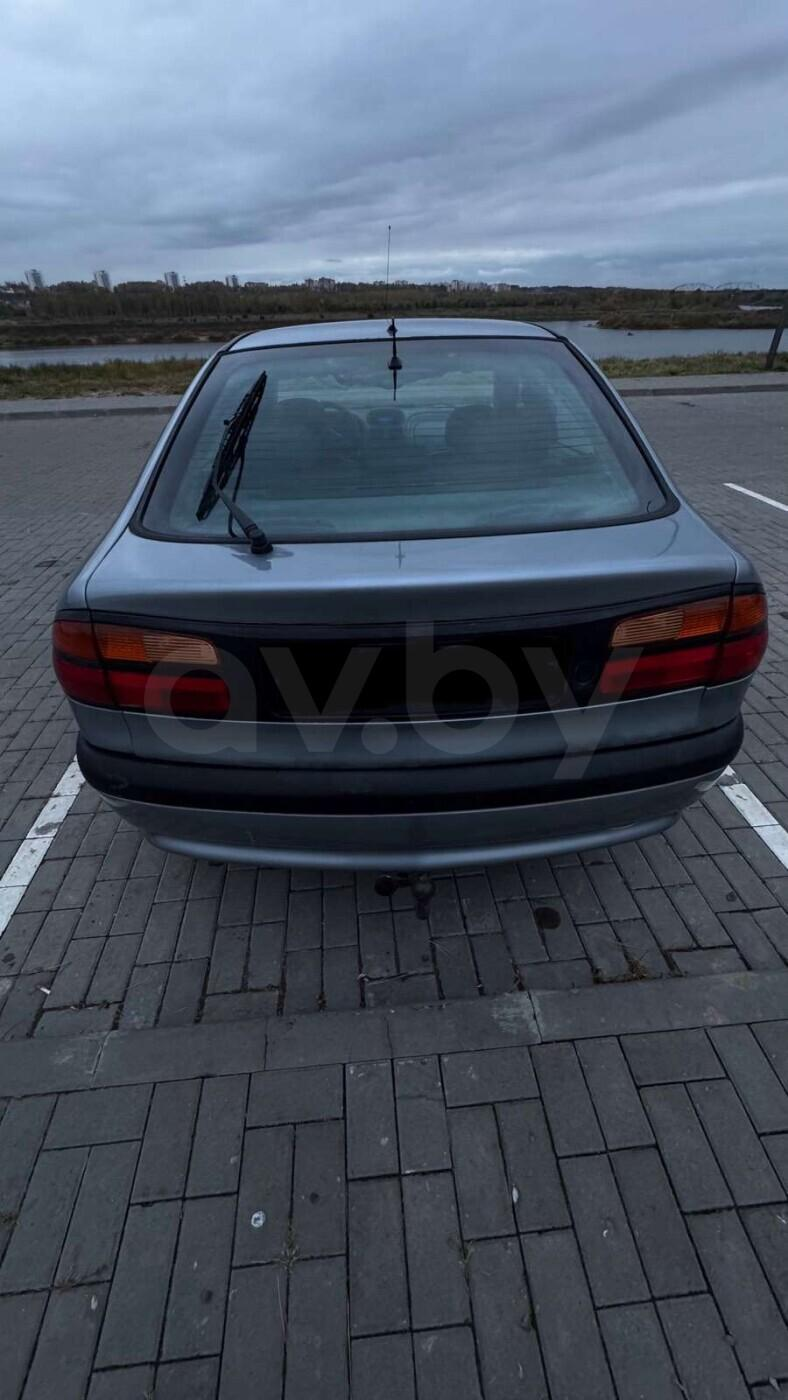Laguna_1998-2001: (54, 312, 768, 892)
